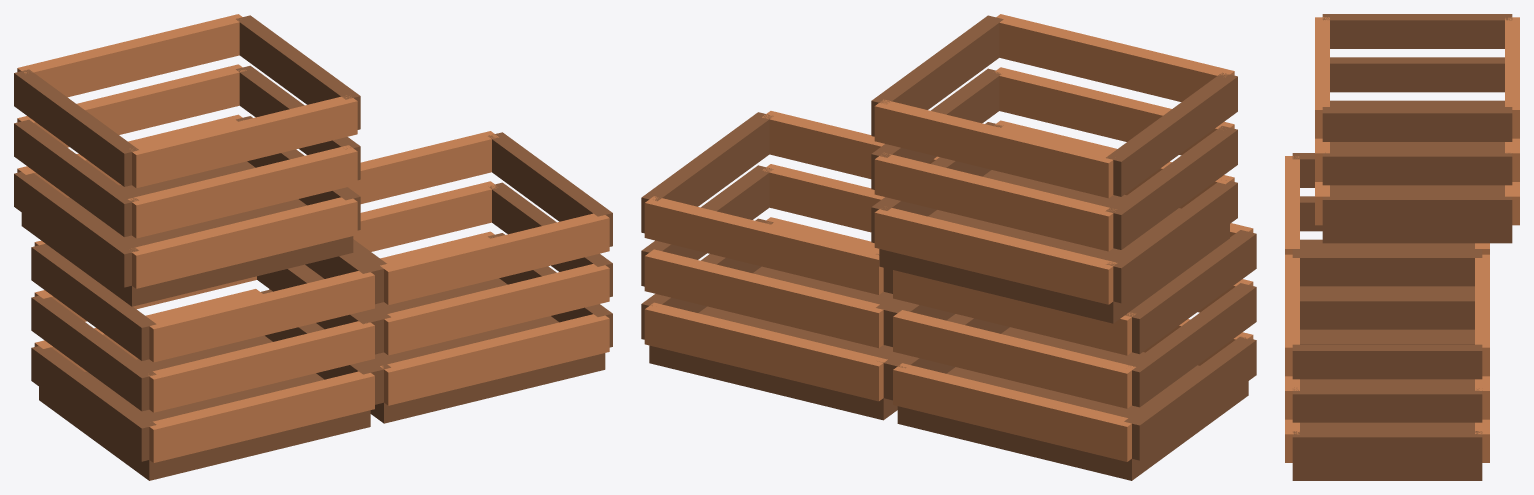
File: 055_wooden_produce_crates.glb
3 views of the same model, side by side, from view 1: azimuth 30°, elevation 25°; view 2: azimuth 150°, elevation 25°; view 3: azimuth 270°, elevation 25° (orthographic). The views are drawn at different scales.
Visible parts, largest first — view 1: Wooden produce crates; view 2: Wooden produce crates; view 3: Wooden produce crates.
Boxes of the visible parts, <box> form: Wooden produce crates: <box>14,14,612,480</box>; Wooden produce crates: <box>641,14,1256,480</box>; Wooden produce crates: <box>1285,14,1519,480</box>.
Bounding box in the file's own units: 1.41 × 0.9013 × 0.705.
